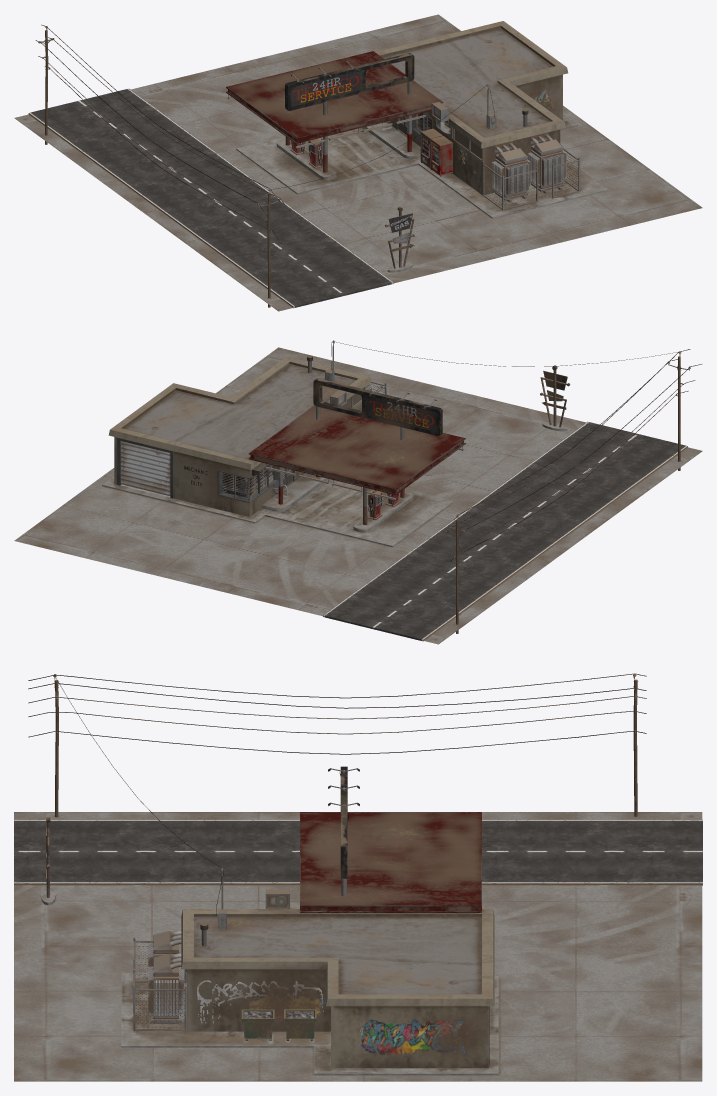
Rendered from gas_station_mobile.glb.
3 renders of one model, top to bottom at view 1: azimuth 30°, elevation 25°; view 2: azimuth 150°, elevation 25°; view 3: azimuth 270°, elevation 25°, orthographic. The views are drawn at different scales.
Visible parts, largest first — view 1: GROUND_LOW_POLY_ground_0, ROAD_LOW_POLY_road_0, STATION_LOW_POLY_mat_0, ROOF_LOW_POLY_LOW_POLY_mat_0, FLOOR_LOW_POLY_mat_0, BILLBOARD_LOW_POLY_mat_0, TEXT_LOW_POLY_mat_0, BASE_LOW_POLY_mat_0, CABLE_LOW_POLY_mat_0, GENERATOR_FRIZE_LOW_POLY_mat_0, GENERATOR_FRIZE_2_LOW_POLY_mat_0, FENCE_LOW_POLY_mat_0 (+5 smaller); view 2: GROUND_LOW_POLY_ground_0, ROAD_LOW_POLY_road_0, STATION_LOW_POLY_mat_0, ROOF_LOW_POLY_LOW_POLY_mat_0, FLOOR_LOW_POLY_mat_0, GATE_LOW_POLY_mat_0, BILLBOARD_LOW_POLY_mat_0, BASE_LOW_POLY_mat_0, TEXT_LOW_POLY_mat_0, CABLE_LOW_POLY_mat_0, WOOD_FRAME_LOW_POLY_mat_0, JALOUSIE_LOW_POLY_mat_0 (+2 smaller); view 3: GROUND_LOW_POLY_ground_0, STATION_LOW_POLY_mat_0, ROAD_LOW_POLY_road_0, ROOF_LOW_POLY_LOW_POLY_mat_0, FLOOR_LOW_POLY_mat_0, TEXT_LOW_POLY_mat_0, CABLE_LOW_POLY_mat_0, GENERATOR_2_LOW_POLY_mat_0, GENERATOR_FRIZE_2_LOW_POLY_mat_0, TRASH_1_LOW_POLY_mat_0, TRASH_2_LOW_POLY_mat_0, BILLBOARD_LOW_POLY_mat_0 (+1 smaller).
Boxes of the visible parts, left/top/right/bottom form: GROUND_LOW_POLY_ground_0: left=14, top=14, right=702, bottom=311; ROAD_LOW_POLY_road_0: left=28, top=88, right=393, bottom=308; STATION_LOW_POLY_mat_0: left=375, top=21, right=568, bottom=194; ROOF_LOW_POLY_LOW_POLY_mat_0: left=226, top=51, right=443, bottom=143; FLOOR_LOW_POLY_mat_0: left=236, top=114, right=607, bottom=218; BILLBOARD_LOW_POLY_mat_0: left=285, top=53, right=414, bottom=110; TEXT_LOW_POLY_mat_0: left=291, top=70, right=555, bottom=181; BASE_LOW_POLY_mat_0: left=276, top=122, right=420, bottom=272; CABLE_LOW_POLY_mat_0: left=35, top=24, right=290, bottom=243; GENERATOR_FRIZE_LOW_POLY_mat_0: left=492, top=159, right=530, bottom=194; GENERATOR_FRIZE_2_LOW_POLY_mat_0: left=528, top=150, right=566, bottom=186; FENCE_LOW_POLY_mat_0: left=482, top=149, right=580, bottom=210; GROUND_LOW_POLY_ground_0: left=14, top=347, right=702, bottom=644; ROAD_LOW_POLY_road_0: left=323, top=421, right=687, bottom=641; STATION_LOW_POLY_mat_0: left=108, top=356, right=371, bottom=516; ROOF_LOW_POLY_LOW_POLY_mat_0: left=248, top=405, right=465, bottom=494; FLOOR_LOW_POLY_mat_0: left=102, top=469, right=453, bottom=547; GATE_LOW_POLY_mat_0: left=121, top=441, right=170, bottom=495; BILLBOARD_LOW_POLY_mat_0: left=313, top=378, right=442, bottom=435; BASE_LOW_POLY_mat_0: left=261, top=422, right=567, bottom=532; TEXT_LOW_POLY_mat_0: left=184, top=395, right=436, bottom=496; CABLE_LOW_POLY_mat_0: left=447, top=349, right=701, bottom=561; WOOD_FRAME_LOW_POLY_mat_0: left=117, top=437, right=294, bottom=502; JALOUSIE_LOW_POLY_mat_0: left=222, top=464, right=291, bottom=498; GROUND_LOW_POLY_ground_0: left=14, top=812, right=702, bottom=1081; STATION_LOW_POLY_mat_0: left=181, top=909, right=494, bottom=1068; ROAD_LOW_POLY_road_0: left=14, top=819, right=702, bottom=885; ROOF_LOW_POLY_LOW_POLY_mat_0: left=300, top=812, right=481, bottom=912; FLOOR_LOW_POLY_mat_0: left=121, top=972, right=498, bottom=1075; TEXT_LOW_POLY_mat_0: left=197, top=772, right=467, bottom=1055; CABLE_LOW_POLY_mat_0: left=28, top=673, right=646, bottom=754; GENERATOR_2_LOW_POLY_mat_0: left=153, top=953, right=186, bottom=1022; GENERATOR_FRIZE_2_LOW_POLY_mat_0: left=148, top=966, right=183, bottom=1015; TRASH_1_LOW_POLY_mat_0: left=241, top=1009, right=274, bottom=1040; TRASH_2_LOW_POLY_mat_0: left=284, top=1009, right=316, bottom=1040; BILLBOARD_LOW_POLY_mat_0: left=340, top=766, right=347, bottom=878.
Bounding box in the file's own units: 28.42 × 7.5 × 30.33.
4 materials, 4 textured.
